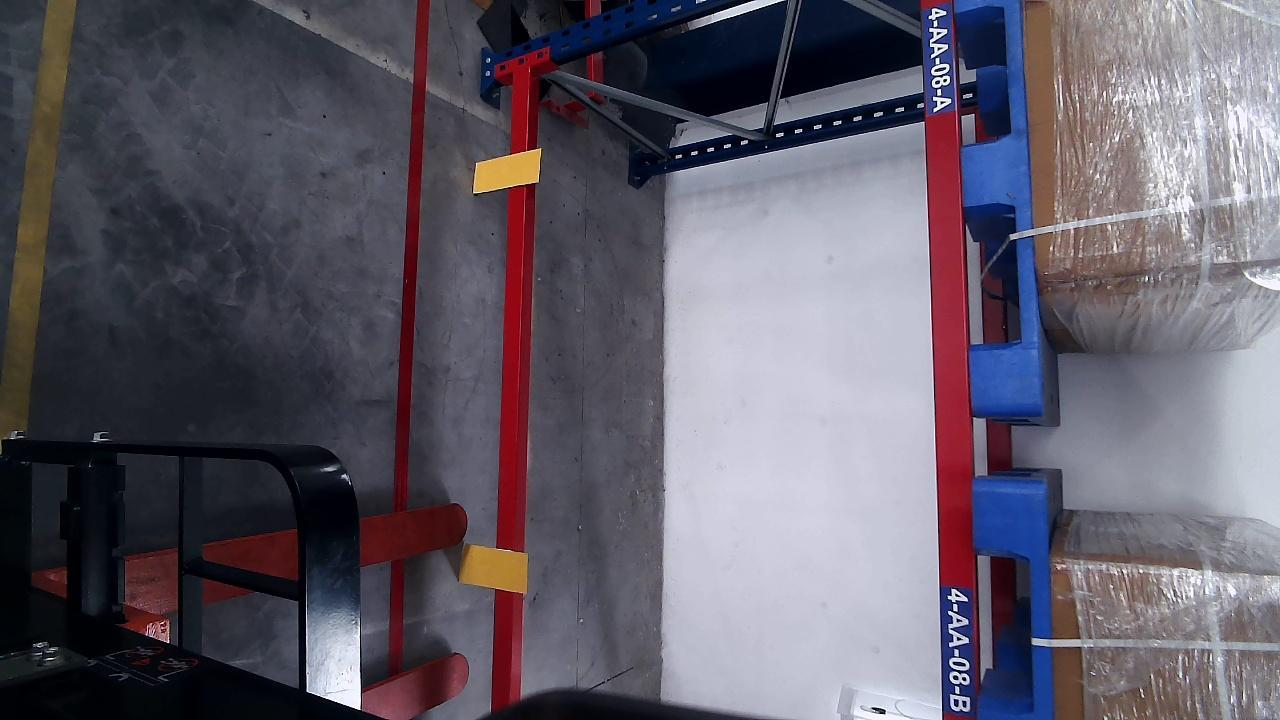h_rack: (922, 0, 977, 720), (492, 69, 527, 711)
orange_strip: (457, 548, 529, 595), (469, 145, 542, 191)
red_line: (392, 2, 431, 506)
small_pallet: (951, 0, 1043, 409), (966, 487, 1054, 719)
yellow_line: (0, 1, 78, 434)
